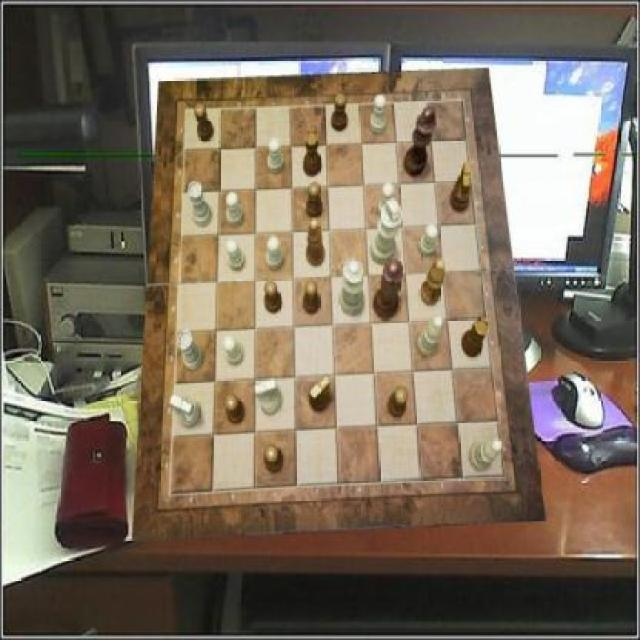bishop: (420, 259, 445, 306), (306, 217, 326, 266)
black-bishop: (404, 105, 438, 177)
black-king: (451, 163, 471, 212), (309, 376, 332, 412)
black-knight: (194, 103, 214, 142), (388, 386, 408, 419), (226, 394, 246, 424), (306, 182, 322, 219), (332, 94, 348, 131), (265, 280, 282, 314), (303, 279, 320, 313), (264, 446, 284, 474)
black-pawn: (374, 260, 404, 322)
black-queen: (463, 318, 491, 358), (303, 129, 321, 177)
black-rook: (417, 315, 443, 357), (470, 437, 502, 471)
white-bishop: (371, 198, 403, 264)
white-king: (170, 394, 202, 428), (256, 379, 282, 416)
white-knight: (370, 94, 388, 134), (378, 183, 396, 221), (418, 223, 438, 257), (226, 240, 246, 272), (226, 192, 244, 227), (223, 336, 243, 366), (266, 237, 283, 271), (268, 138, 284, 174)
white-pawn: (340, 259, 366, 316)
white-queen: (188, 182, 212, 228), (178, 331, 204, 371)
